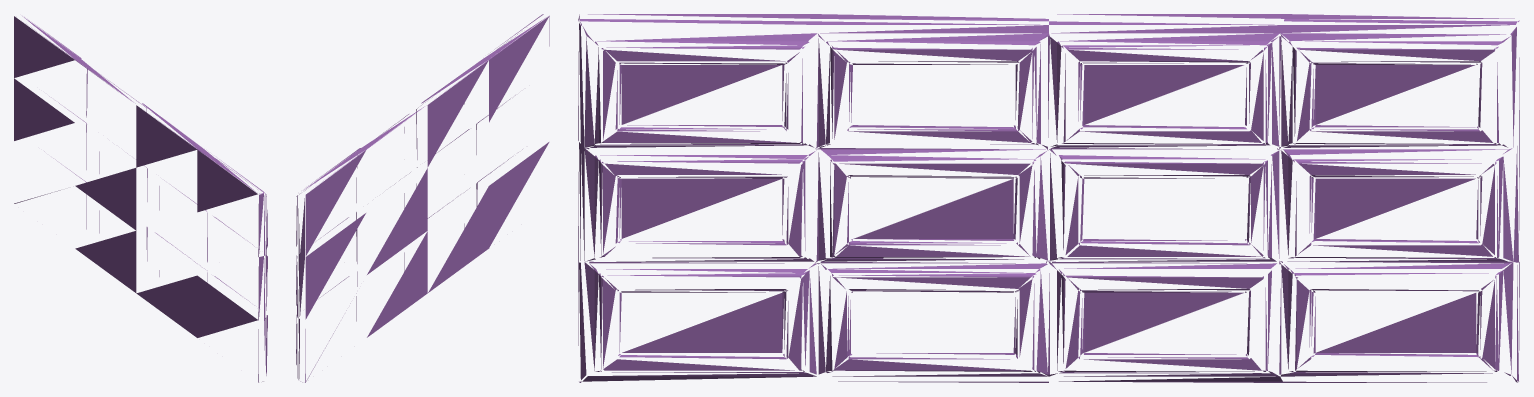
Rendered from food_processed_chocolate_k01.glb.
The picture shows the model from 3 angles, left to right: view 1: azimuth 30°, elevation 25°; view 2: azimuth 150°, elevation 25°; view 3: azimuth 270°, elevation 25°; orthographic projection. The views are drawn at different scales.
Parts seen in each view (by area): view 1: geometry_0; view 2: geometry_0; view 3: geometry_0.
Part boxes in pixels (x1=…): geometry_0: x1=14, y1=16, x2=267, y2=382; geometry_0: x1=296, y1=14, x2=549, y2=382; geometry_0: x1=578, y1=14, x2=1519, y2=382.
Bounding box in the file's own units: 0.0177 × 0.2046 × 0.48.
